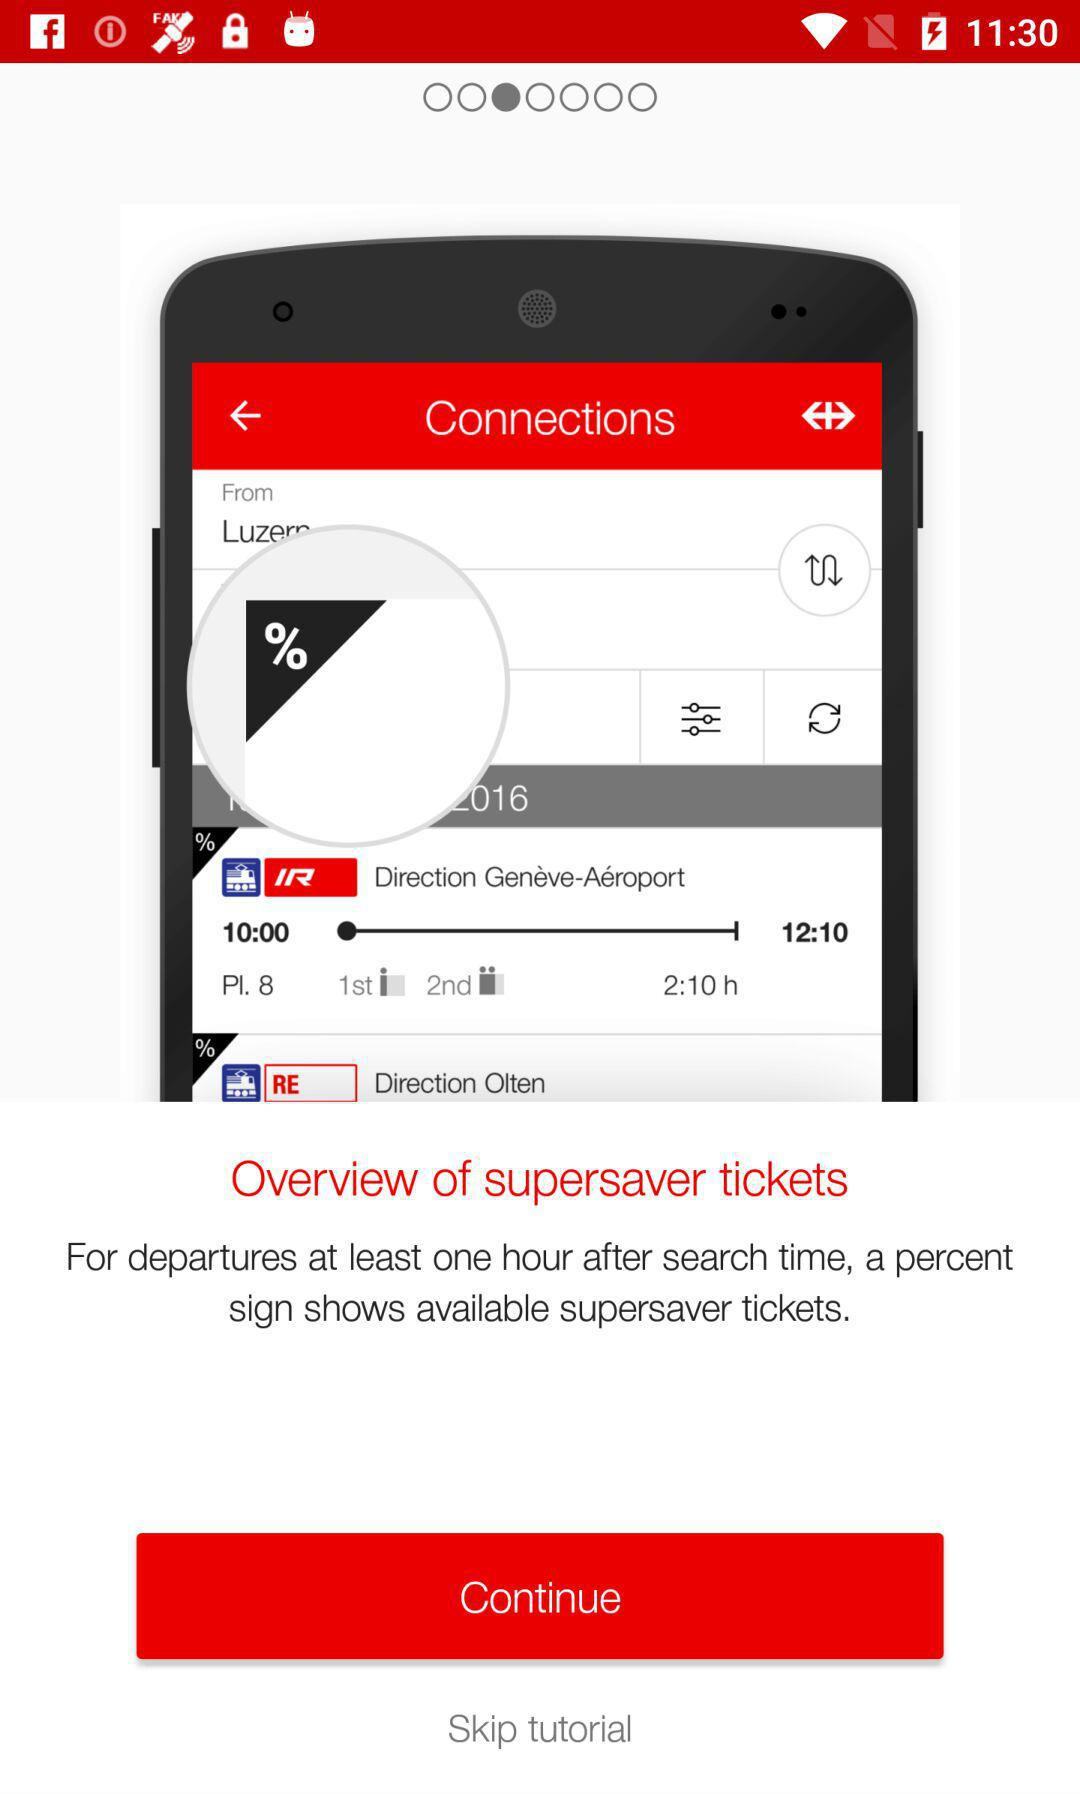Image: (152, 235, 922, 1105)
PageIndicator: (421, 82, 659, 115)
Text: (68, 1240, 1015, 1331), (233, 1158, 848, 1208), (448, 1713, 632, 1750)
TextButton: (137, 1533, 945, 1659)
UpperTaskBar: (1, 1, 1080, 64)
